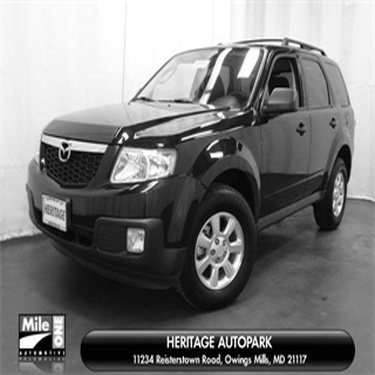car: (23, 33, 359, 314)
